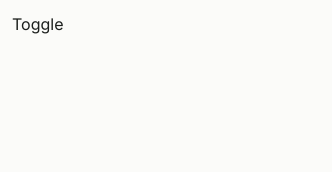
Collapsible › renders closed by default and toggles on trigger click
The width and height of the screenshot is (332, 172).
Click the button with test id "trigger". click: (38, 24)
box: [12,12,64,36]
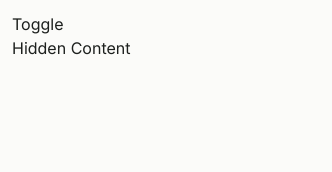
Expected: the text "Hidden Content" is shown, [12,38,130,58]
